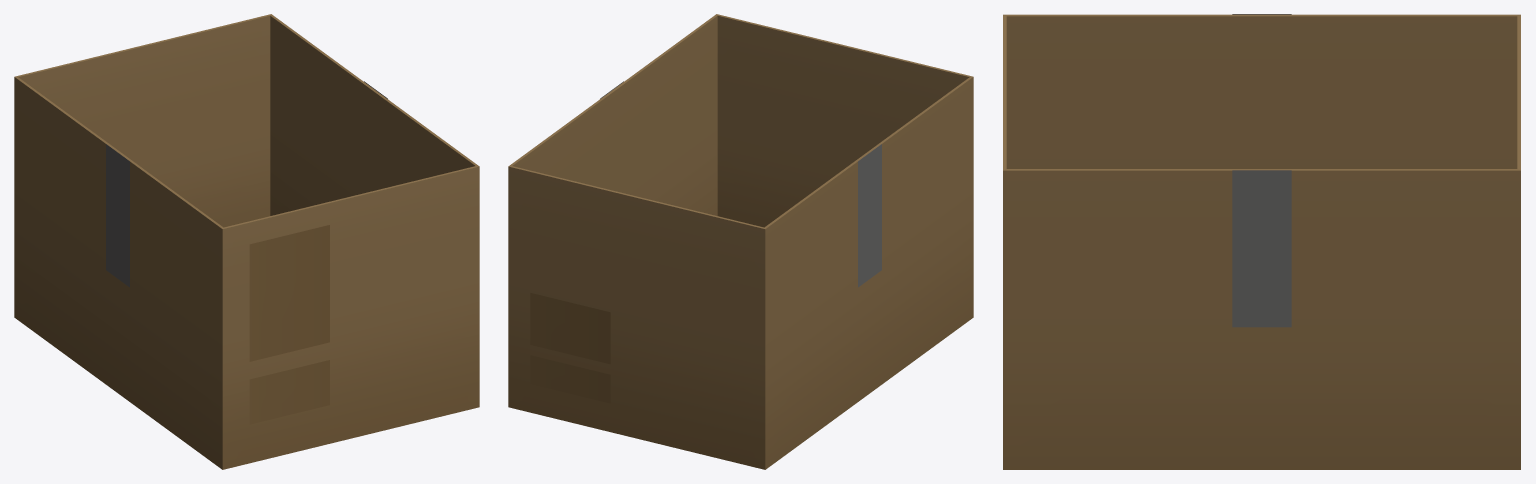
The picture shows the model from 3 angles, left to right: view 1: azimuth 30°, elevation 25°; view 2: azimuth 150°, elevation 25°; view 3: azimuth 270°, elevation 25°; orthographic projection. The views are drawn at different scales.
Parts seen in each view (by area): view 1: box02; view 2: box02; view 3: box02.
Part boxes in pixels (x1,y1,x2,y2): box02: [14, 14, 479, 469]; box02: [508, 14, 973, 469]; box02: [1003, 14, 1520, 469].
Size of the model in its own units: 72.3 by 64.61 by 101.
